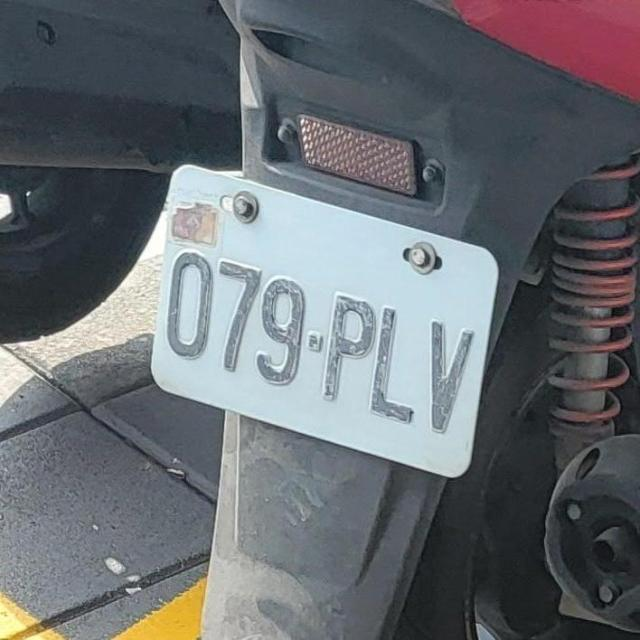W: (134, 130, 518, 487)
